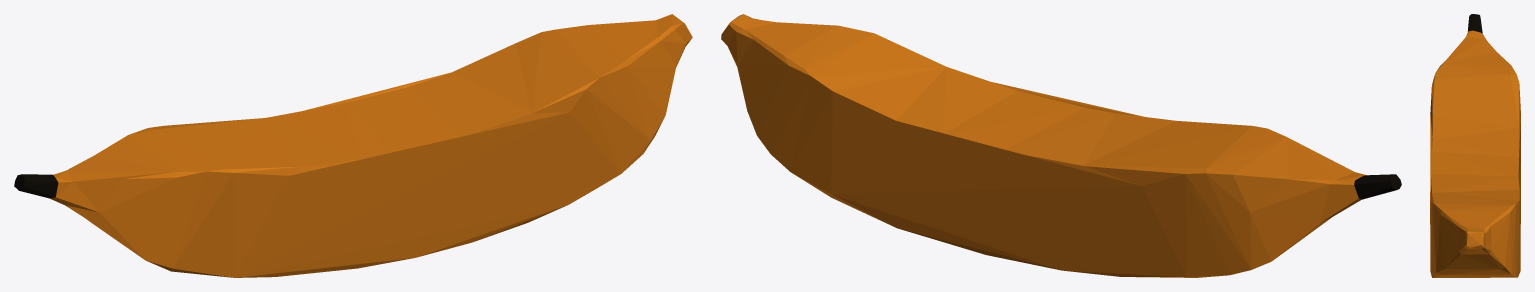
The model's file is banana.dae.
3 renders of one model, left to right at view 1: azimuth 30°, elevation 25°; view 2: azimuth 150°, elevation 25°; view 3: azimuth 270°, elevation 25°, orthographic. The views are drawn at different scales.
Parts seen in each view (by area): view 1: banana; view 2: banana; view 3: banana.
Boxes of the visible parts, x1,y1,x2,y2 form: banana: [14, 14, 692, 277]; banana: [721, 14, 1401, 277]; banana: [1430, 14, 1520, 277].
Bounding box in the file's own units: 5.75 × 1.2 × 0.9972.
